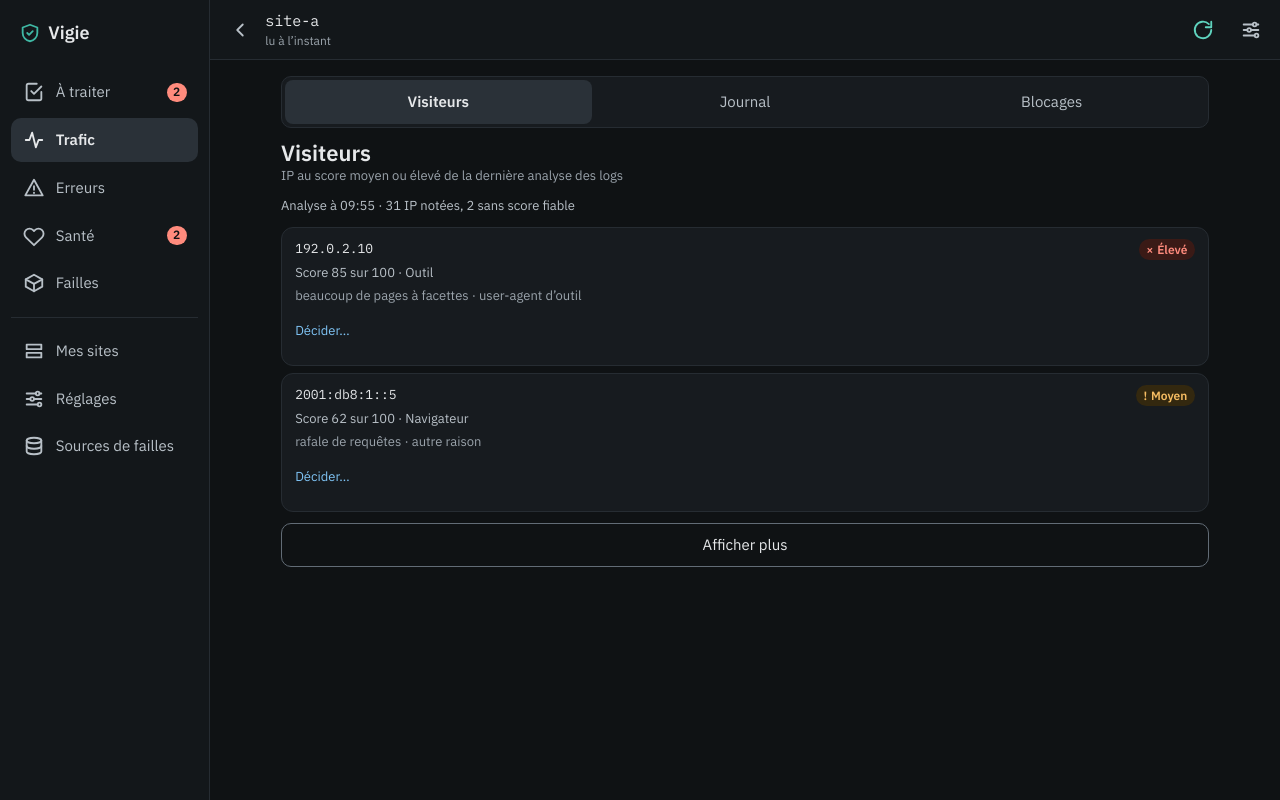
Test case: Trafic › Visiteurs : un curseur expiré fait reprendre la liste au début, avec un avis
The width and height of the screenshot is (1280, 800).
Step 1. Click the button "Afficher plus" → [745, 545], box [281,523,1209,567]
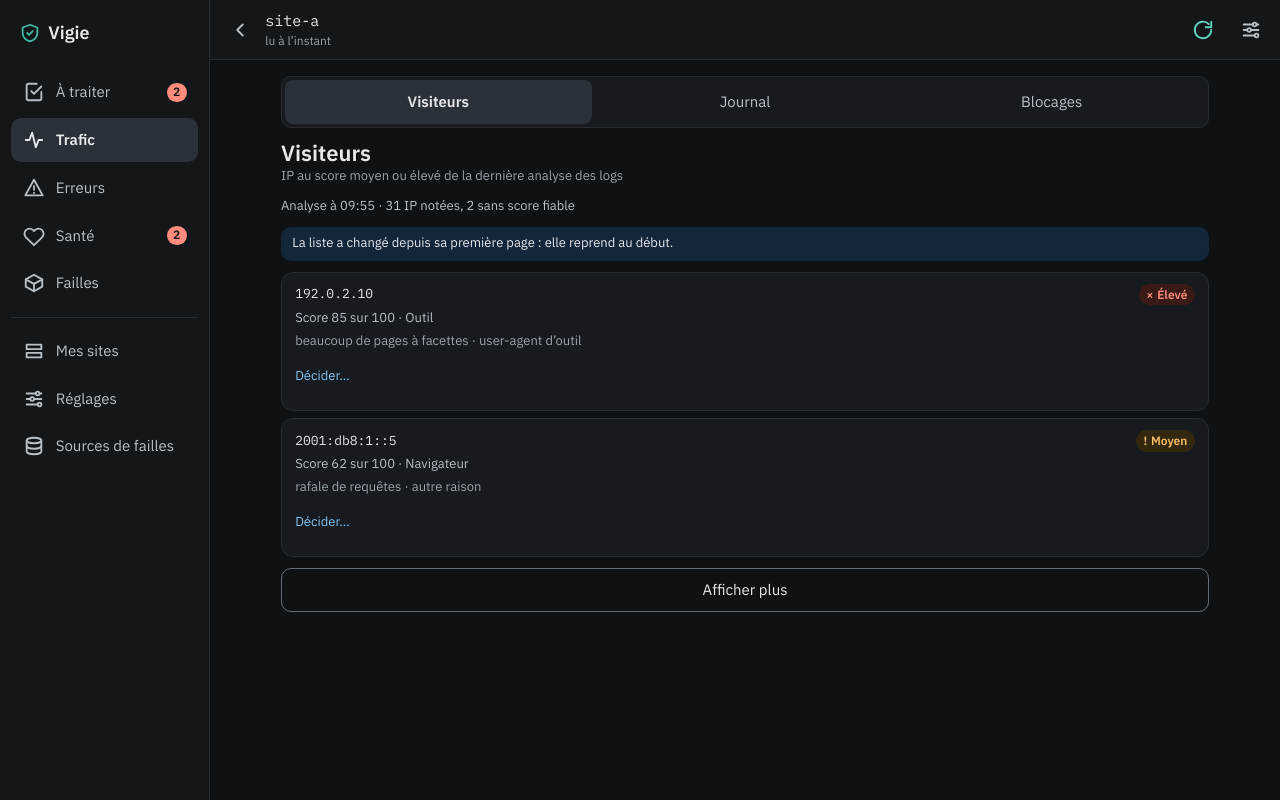
Expected: the number of list items is 2, [281,272,1209,411]; [281,418,1209,557]
Result: the message "La liste a changé depuis sa première page : elle reprend au début." is shown at [281,227,1209,261]
